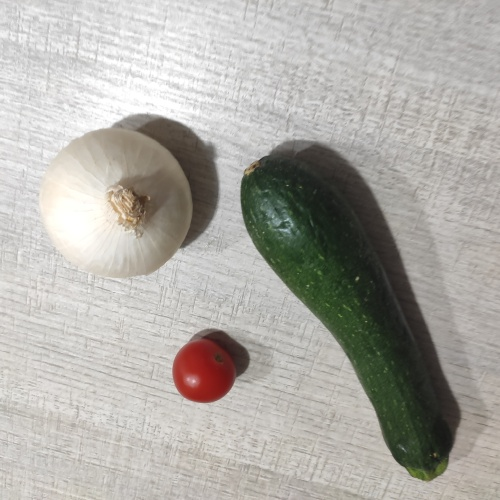cipolla: (46, 125, 208, 291)
pomodoro: (172, 337, 248, 403)
zucchine: (247, 156, 482, 480)
